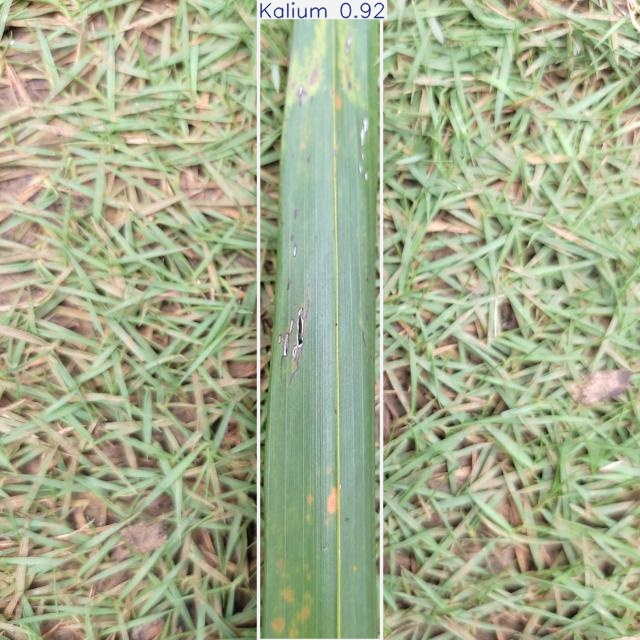Kalium: (258, 0, 381, 640)
